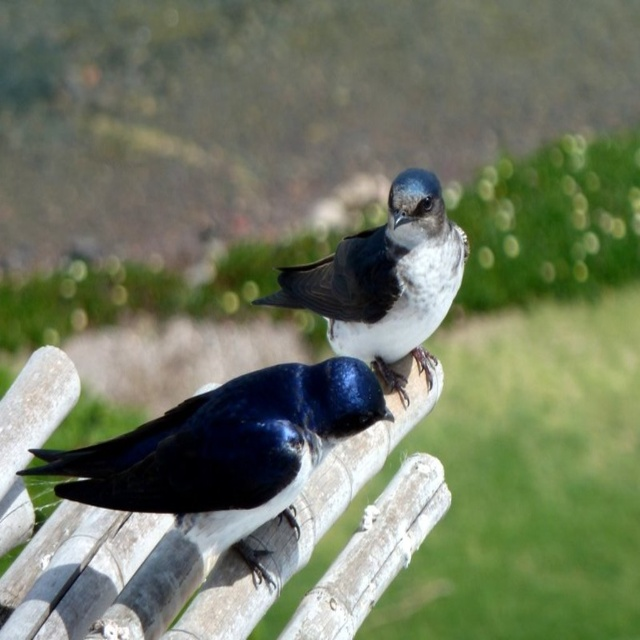Magpie: (14, 351, 398, 593), (248, 162, 470, 404)
